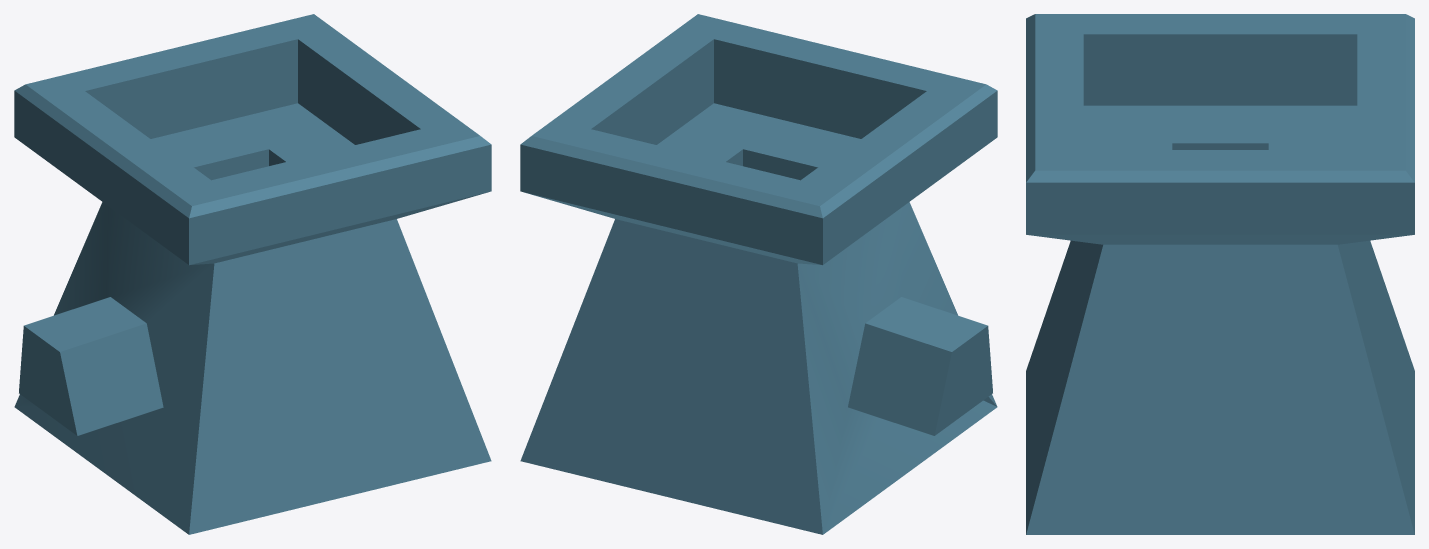
The model's file is Toilet.fbx.
3 renders of one model, left to right at view 1: azimuth 30°, elevation 25°; view 2: azimuth 150°, elevation 25°; view 3: azimuth 270°, elevation 25°, orthographic. The views are drawn at different scales.
Parts seen in each view (by area): view 1: Cube; view 2: Cube; view 3: Cube.
Boxes of the visible parts, x1,y1,x2,y2 form: Cube: (14,14,491,534); Cube: (520,14,997,534); Cube: (1026,14,1414,534).
Size of the model in its own units: 240 by 205 by 200.
